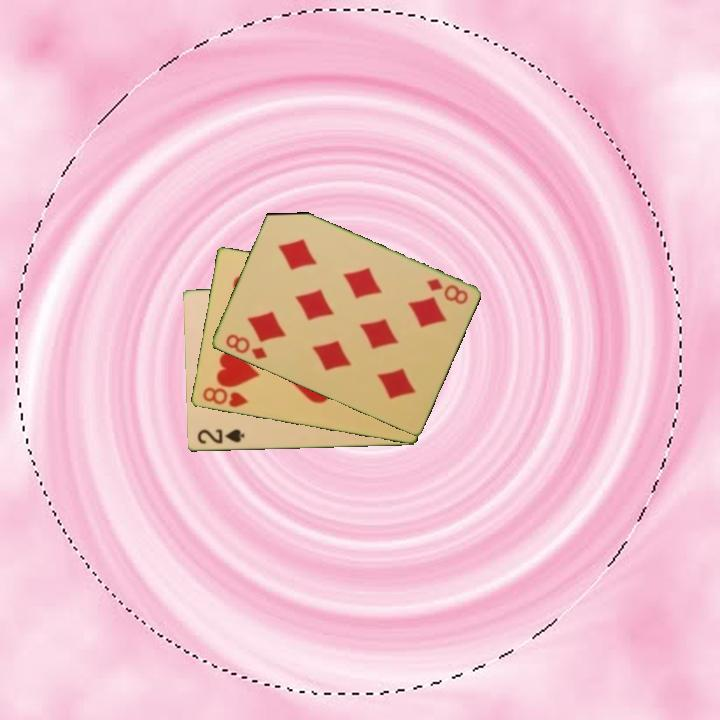2s: (194, 426, 247, 447)
8d: (422, 275, 471, 307), (222, 330, 270, 362)
8h: (199, 384, 251, 411)
